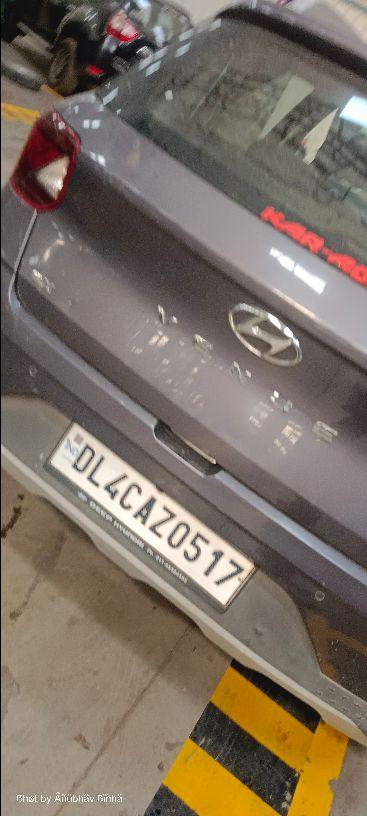license_plate: (43, 419, 258, 613)
